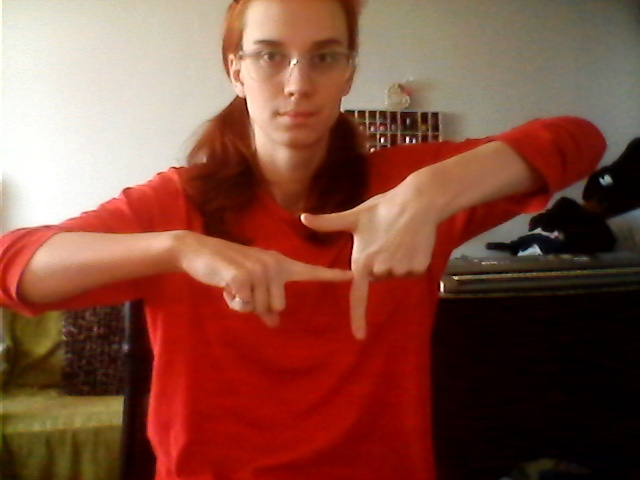f: (234, 204, 396, 348)
